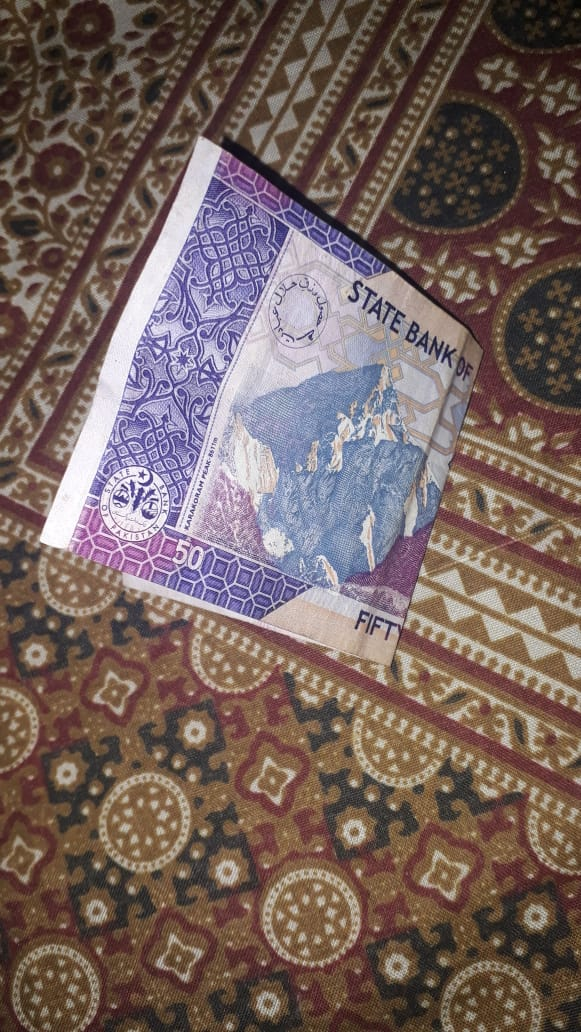50 rupee: (23, 132, 499, 694)
